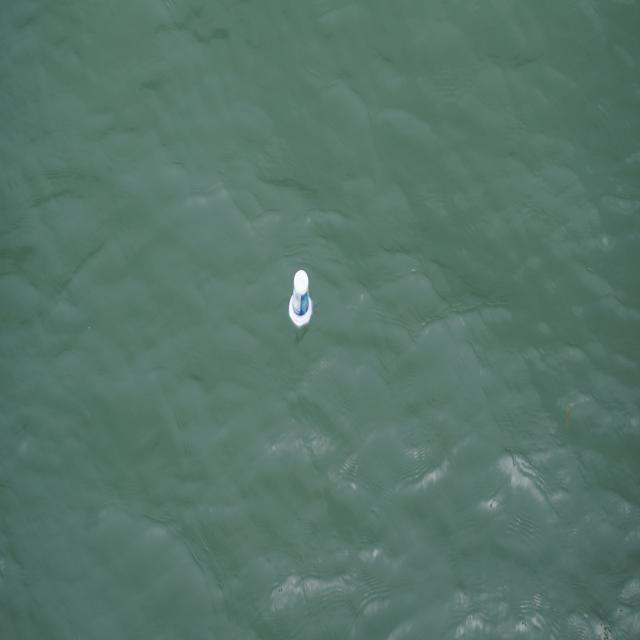Bungkus Minuman: (285, 261, 317, 335)
